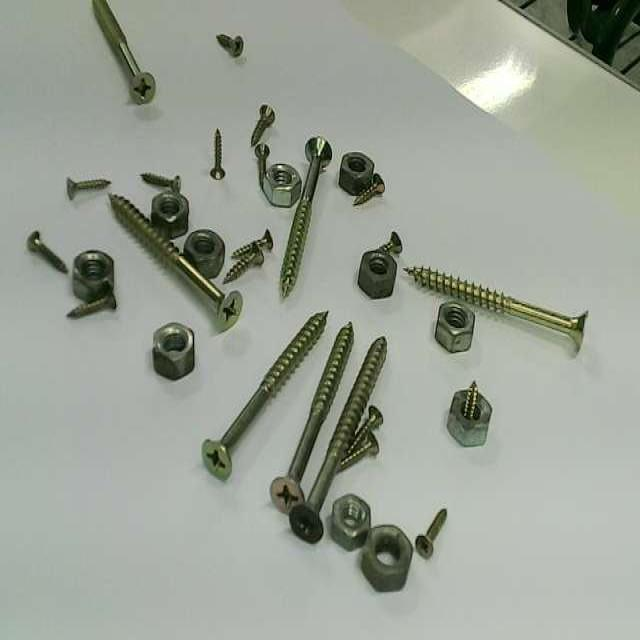Parafuso: (203, 312, 327, 479), (290, 336, 386, 541), (109, 195, 241, 329), (271, 323, 353, 512), (405, 267, 587, 348), (280, 137, 331, 296), (93, 0, 154, 103), (27, 231, 67, 272), (348, 405, 382, 451), (223, 243, 263, 281), (415, 509, 446, 557), (339, 433, 378, 471), (67, 293, 116, 317), (232, 229, 272, 257), (353, 173, 384, 204), (67, 177, 110, 199), (251, 104, 274, 145), (210, 129, 224, 179), (141, 173, 179, 191), (463, 381, 480, 420), (255, 143, 269, 185), (217, 35, 242, 56), (379, 231, 402, 253)
Porca: (362, 525, 412, 591), (449, 392, 492, 449), (153, 323, 193, 379), (331, 493, 370, 549), (73, 251, 113, 301), (435, 301, 474, 352), (183, 229, 224, 277), (358, 251, 396, 296), (262, 164, 301, 207), (152, 191, 188, 237), (339, 152, 373, 195)
